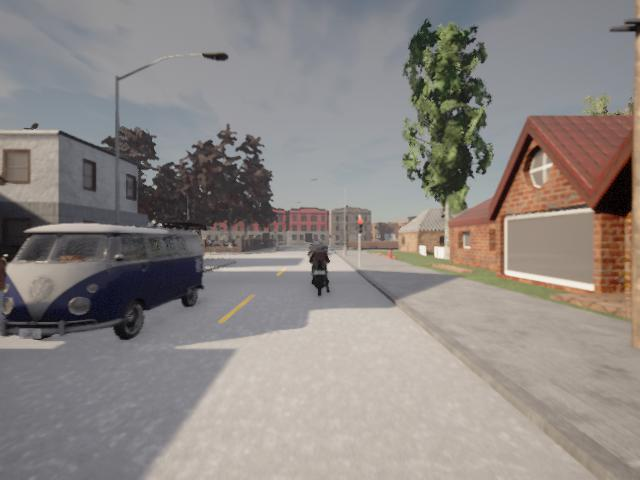5: (356, 219, 364, 233)
9: (3, 223, 208, 341)
motobike: (307, 242, 331, 293)
